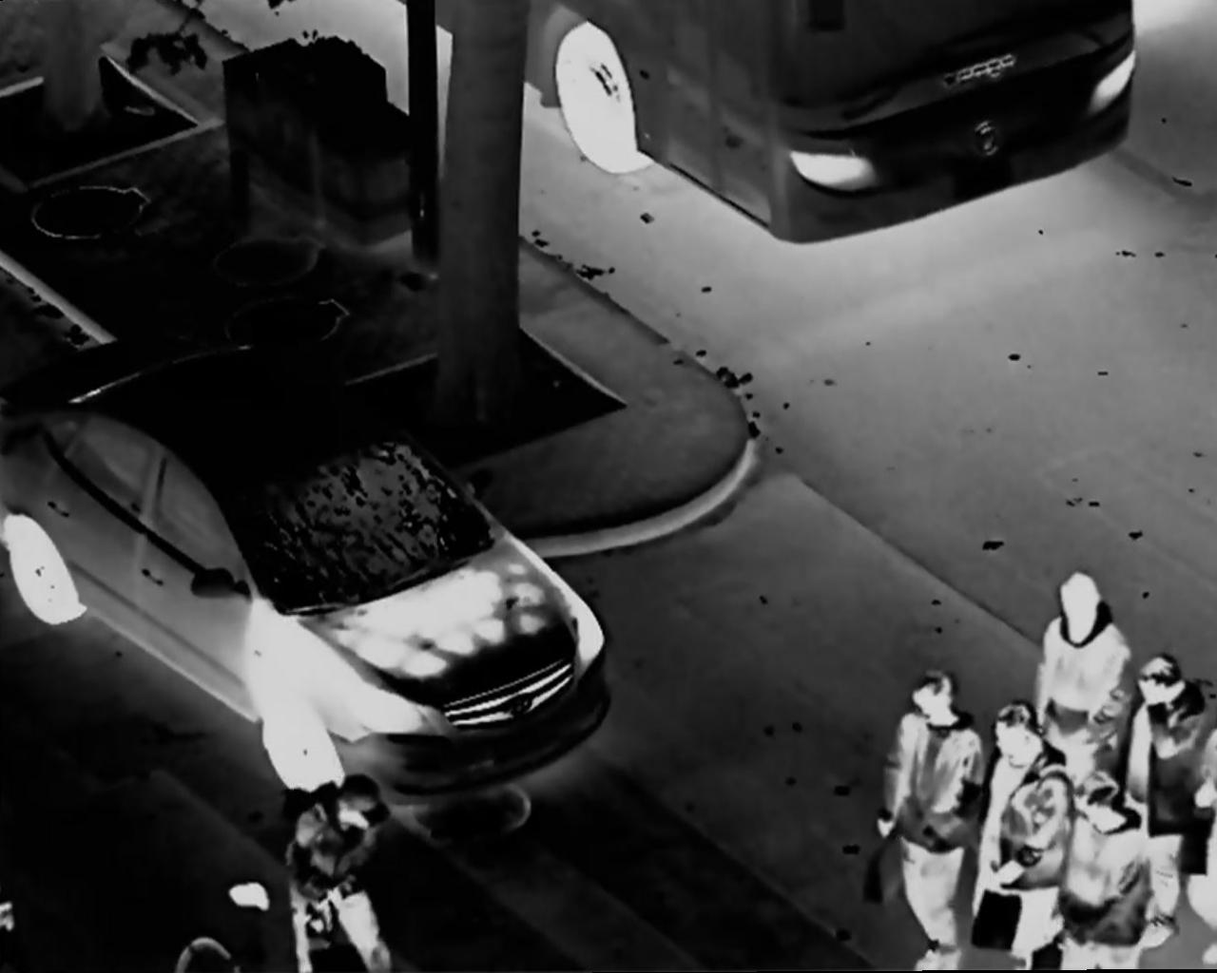person: (879, 668, 977, 972), (271, 773, 396, 973), (1034, 568, 1134, 792), (985, 696, 1065, 973), (1130, 636, 1198, 937), (1073, 772, 1153, 973)
